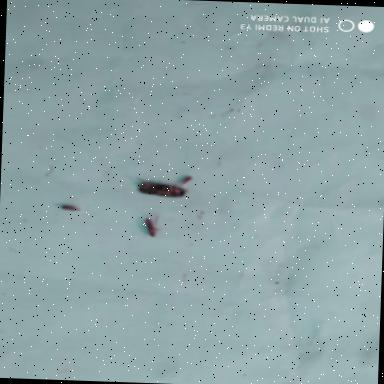pbw: (126, 176, 190, 204), (136, 210, 166, 240), (171, 170, 196, 189), (56, 201, 86, 216)
